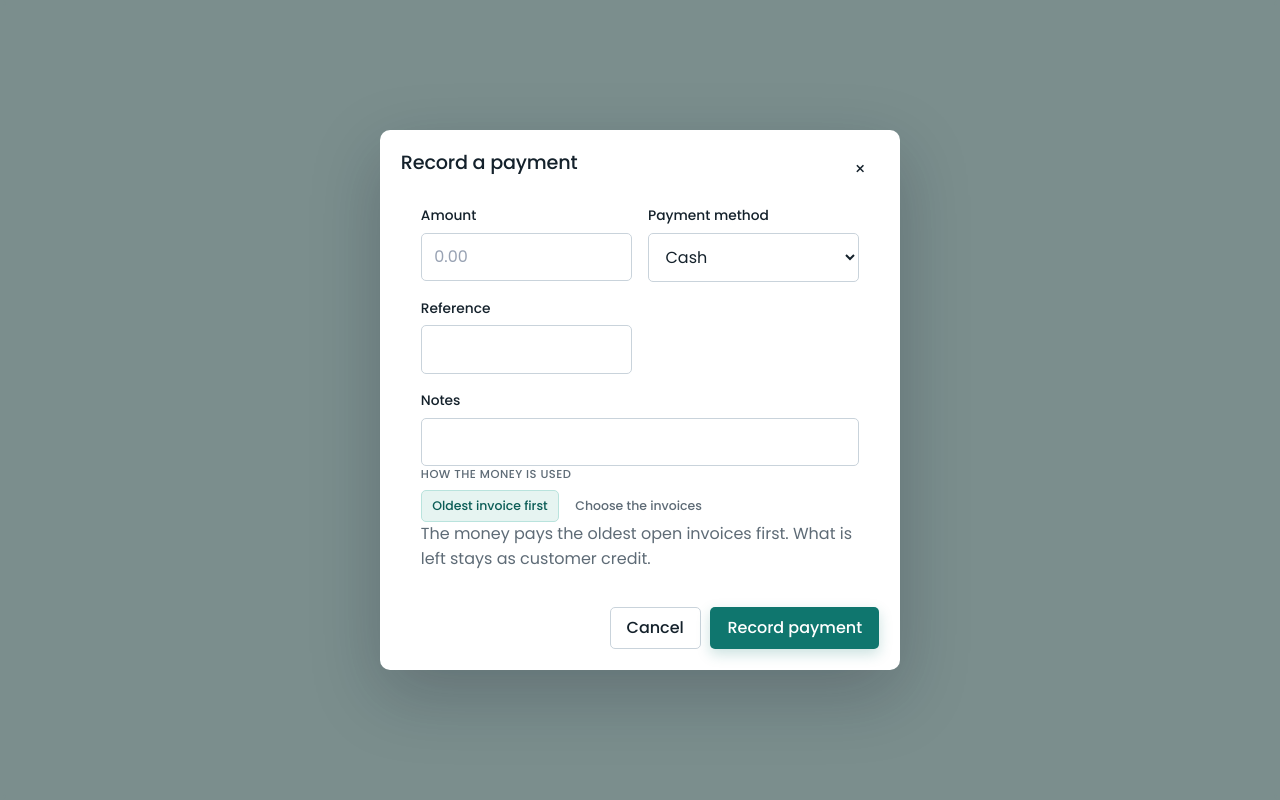
RecordPaymentDialog › shows the message of the API when an allocation does not fit the invoice
In the field labelled "Amount": (526, 257) [421,233,632,281], type "50"
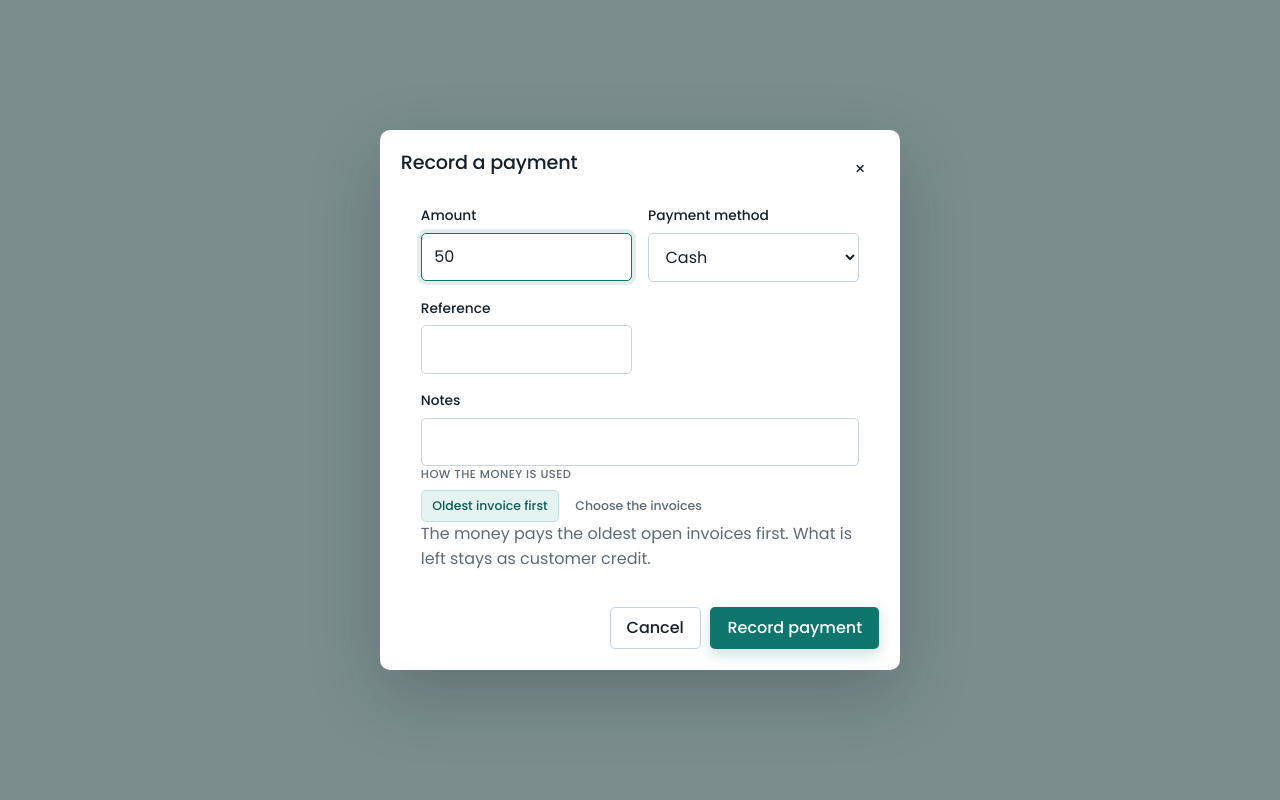
Click the button "Record payment": (795, 628) [710,607,879,649]
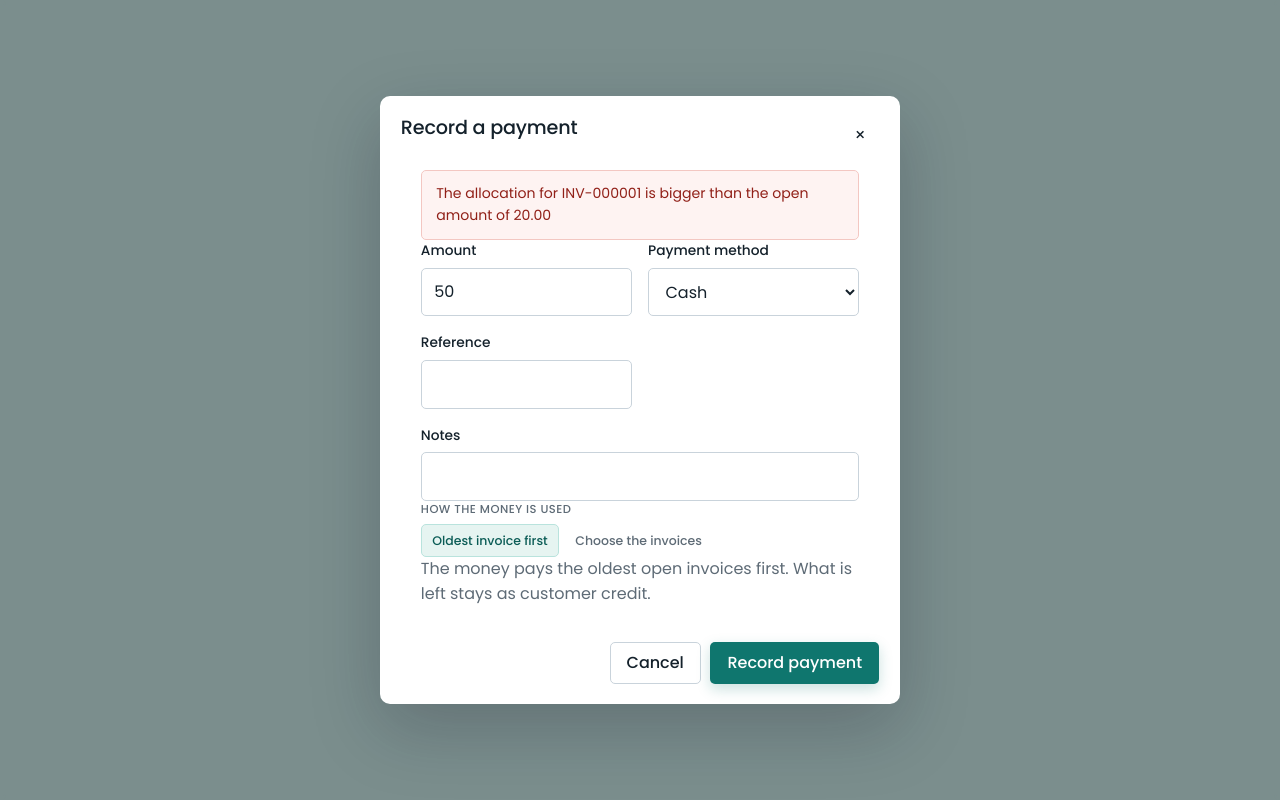
Expected: the text "The allocation for INV-000001 is bigger than the open amount of 20.00" is shown, [421,170,859,240]
